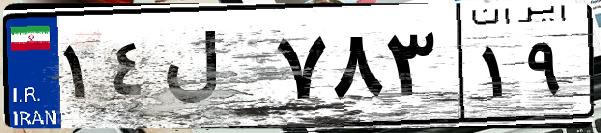1: (57, 26, 110, 100), (475, 38, 525, 113)
3: (385, 28, 445, 110)
4: (110, 28, 158, 98)
7: (270, 28, 330, 110)
8: (330, 28, 385, 110)
9: (525, 38, 570, 115)
ل: (158, 20, 270, 120)
